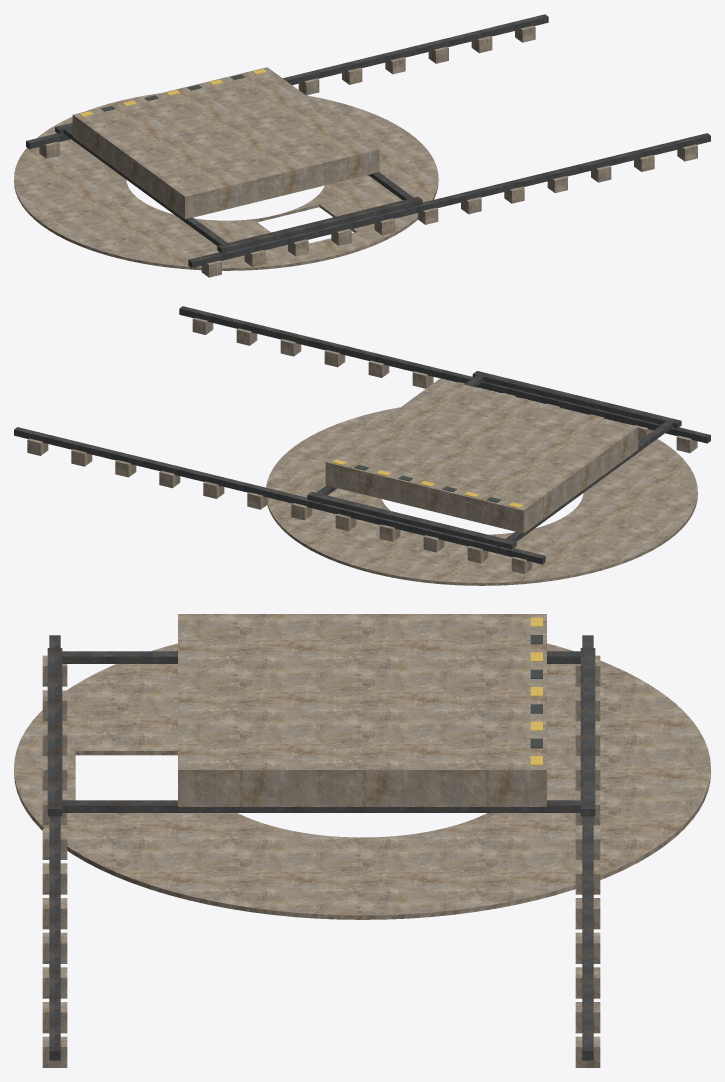
Rendered from silo-surface-cover.gltf.
3 renders of one model, top to bottom at view 1: azimuth 30°, elevation 25°; view 2: azimuth 150°, elevation 25°; view 3: azimuth 270°, elevation 25°, orthographic. The views are drawn at different scales.
Parts seen in each view (by area): view 1: shaft-cover-22-concrete-3, shaft-floor-22-concrete-0, shaft-surface-22-steel-1, shaft-surface-22-concrete-2, shaft-cover-22-steel-4; view 2: shaft-cover-22-concrete-3, shaft-floor-22-concrete-0, shaft-surface-22-steel-1, shaft-surface-22-concrete-2, shaft-cover-22-steel-4; view 3: shaft-floor-22-concrete-0, shaft-cover-22-concrete-3, shaft-cover-22-steel-4, shaft-surface-22-concrete-2, shaft-surface-22-steel-1.
Part boxes in pixels (x1,y1,x2,y2): shaft-cover-22-concrete-3: (72,67,379,219); shaft-floor-22-concrete-0: (14,93,438,270); shaft-surface-22-steel-1: (26,14,710,267); shaft-surface-22-concrete-2: (39,25,697,277); shaft-cover-22-steel-4: (55,122,422,253); shaft-cover-22-concrete-3: (325,378,637,533); shaft-floor-22-concrete-0: (266,407,697,585); shaft-surface-22-steel-1: (14,306,710,564); shaft-surface-22-concrete-2: (27,317,697,573); shaft-cover-22-steel-4: (307,371,681,549); shaft-floor-22-concrete-0: (14,643,710,919); shaft-cover-22-concrete-3: (178,614,546,806); shaft-cover-22-steel-4: (47,648,595,816); shaft-surface-22-concrete-2: (42,655,600,1067); shaft-surface-22-steel-1: (49,635,593,1060).
Bounding box in the file's own units: 26.5 × 2.19 × 17.
Materials: 4 (2 with a texture image).
